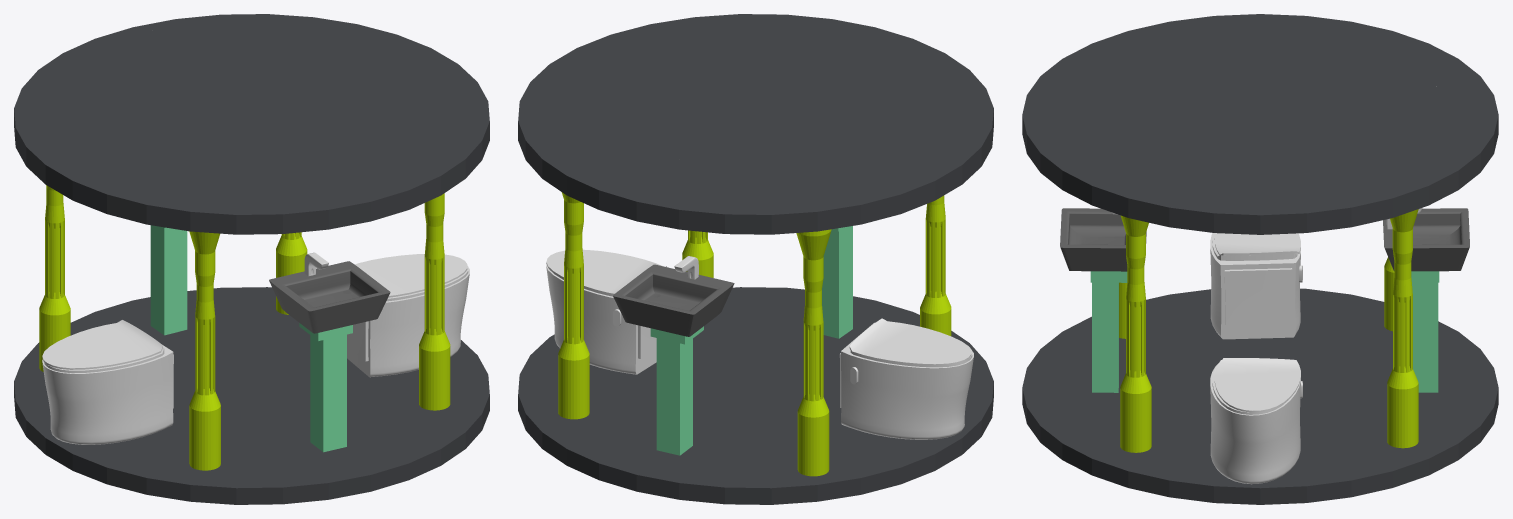
The model's file is pillars.gltf.
3 renders of one model, left to right at view 1: azimuth 30°, elevation 25°; view 2: azimuth 150°, elevation 25°; view 3: azimuth 270°, elevation 25°, orthographic.
Visible parts, largest first — view 1: Cylinder.010, Cylinder.021, Cylinder, Cylinder.011, Cube.003, Cube.005, Cube.012, Cylinder.003, Cylinder.016; view 2: Cylinder.010, Cylinder.021, Cylinder, Cube.009, Cylinder.011, Cube.012, Cylinder.003, Cube.005, Cylinder.016; view 3: Cylinder.010, Cylinder.021, Cylinder, Cylinder.011, Cylinder.016, Cube.003, Cube.009, Cube.005, Cube.012, Cylinder.003, Cylinder.001.
Boxes of the visible parts, <box> form: Cylinder.010: <box>14,14,489,234</box>; Cylinder.021: <box>14,185,489,504</box>; Cylinder: <box>42,345,173,444</box>; Cylinder.011: <box>347,267,469,377</box>; Cube.003: <box>269,261,390,333</box>; Cube.005: <box>299,323,352,452</box>; Cube.012: <box>150,225,187,335</box>; Cylinder.003: <box>42,320,162,369</box>; Cylinder.016: <box>355,254,467,297</box>; Cylinder.010: <box>518,14,993,234</box>; Cylinder.021: <box>518,192,993,504</box>; Cylinder: <box>839,322,973,439</box>; Cube.009: <box>613,264,734,336</box>; Cylinder.011: <box>546,264,656,374</box>; Cube.012: <box>650,326,703,455</box>; Cylinder.003: <box>849,318,971,365</box>; Cube.005: <box>822,226,852,338</box>; Cylinder.016: <box>546,249,666,294</box>; Cylinder.010: <box>1022,14,1498,234</box>; Cylinder.021: <box>1022,209,1498,504</box>; Cylinder: <box>1210,233,1300,339</box>; Cylinder.011: <box>1210,363,1300,484</box>; Cylinder.016: <box>1214,358,1300,412</box>; Cube.003: <box>1060,208,1146,271</box>; Cube.009: <box>1383,208,1469,271</box>; Cube.005: <box>1090,271,1127,392</box>; Cube.012: <box>1411,271,1439,392</box>; Cylinder.003: <box>1214,233,1300,255</box>; Cylinder.001: <box>1212,233,1297,260</box>.
Bounding box in the file's own units: 47.79 × 33.95 × 46.94.
